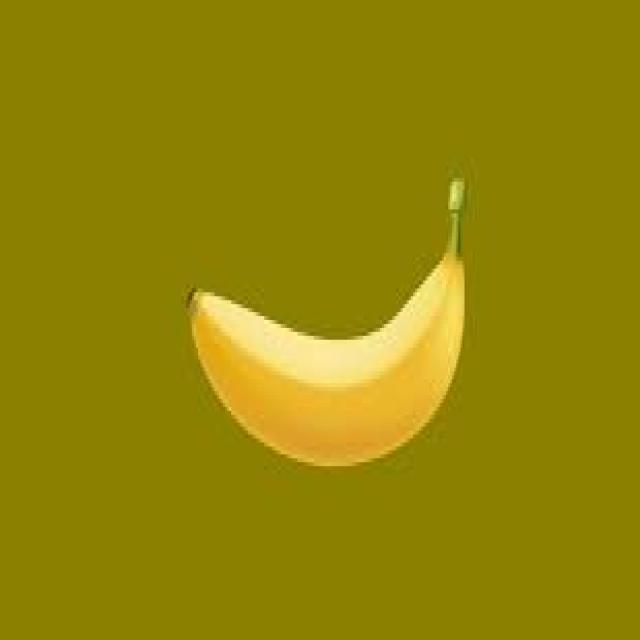Banana: (177, 156, 480, 488)
